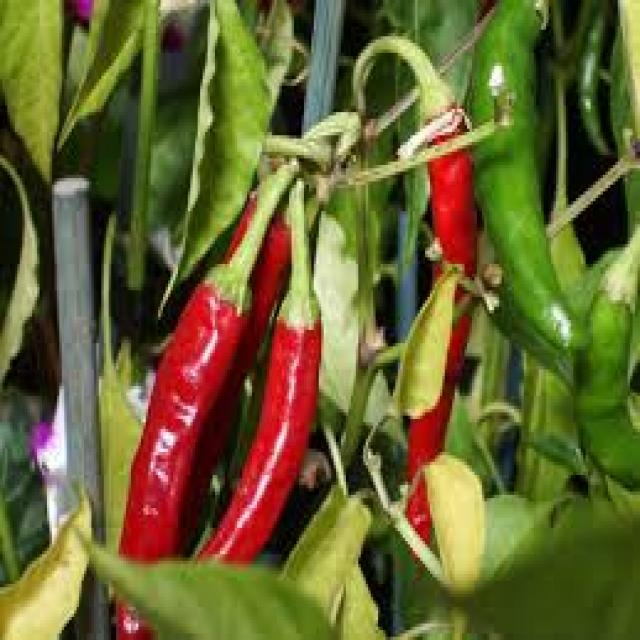virus_kuning: (409, 454, 502, 640), (0, 473, 94, 640), (391, 250, 466, 429)
